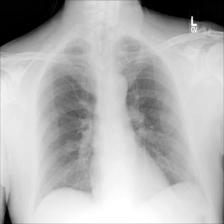normal: (33, 34, 203, 211)
